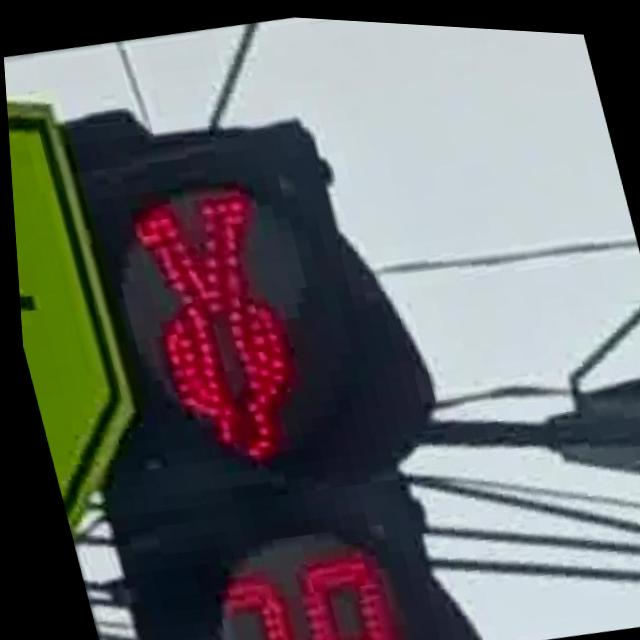red_light: (106, 167, 344, 494)
